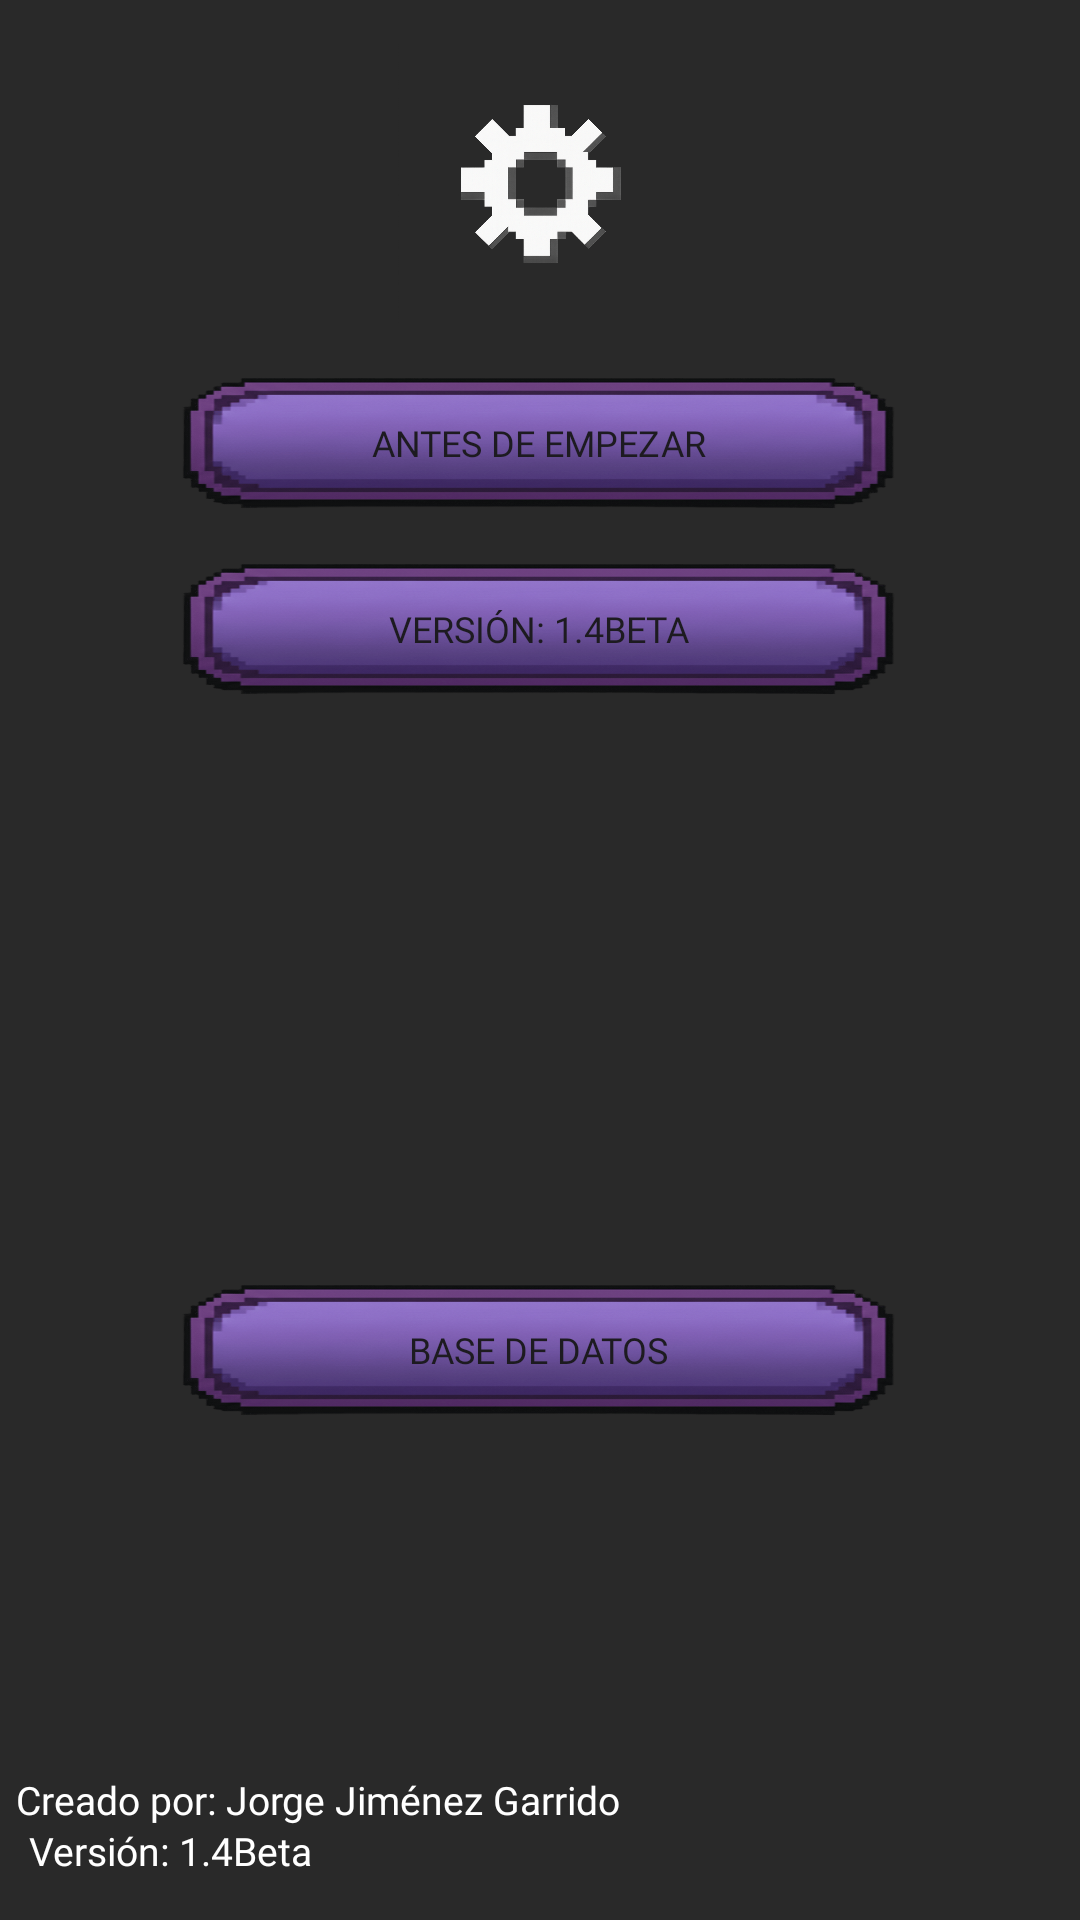

Screen size 1080×1920. Icon name, then its center in pixels as (x=x, y=y):
ajuste pixel: (x=541, y=184)
